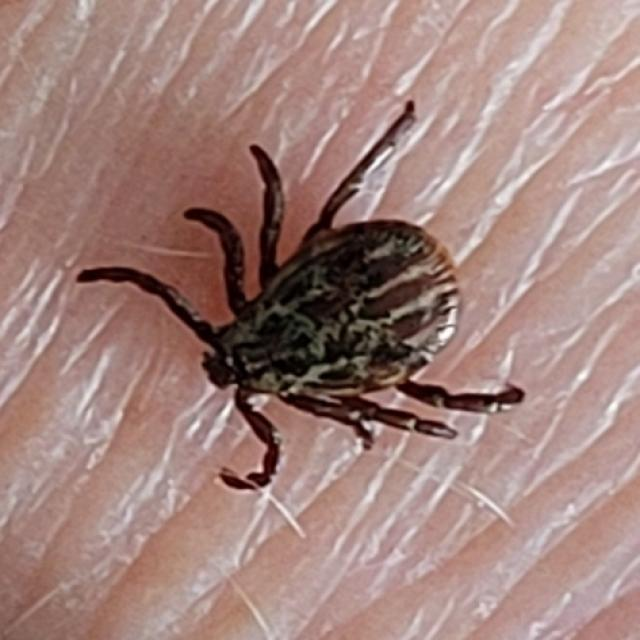Dermacentor Reticulatus-M: (76, 99, 525, 492)
